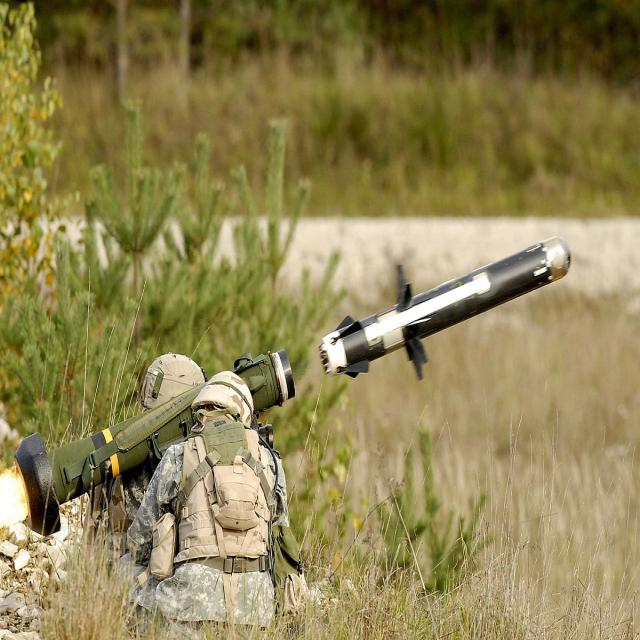bazooka: (11, 217, 593, 554)
